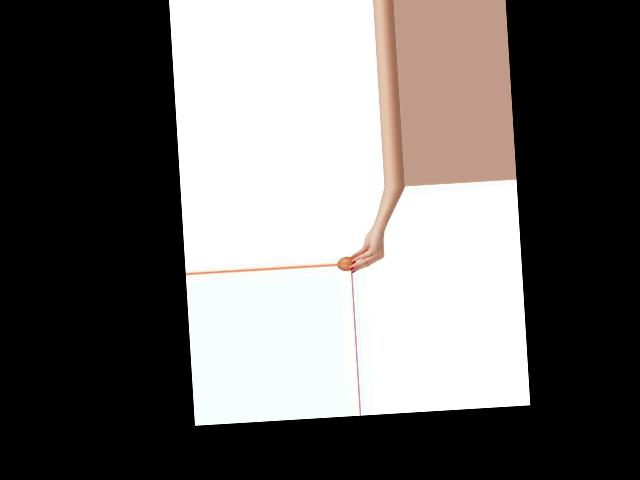egg: (337, 256, 356, 271)
